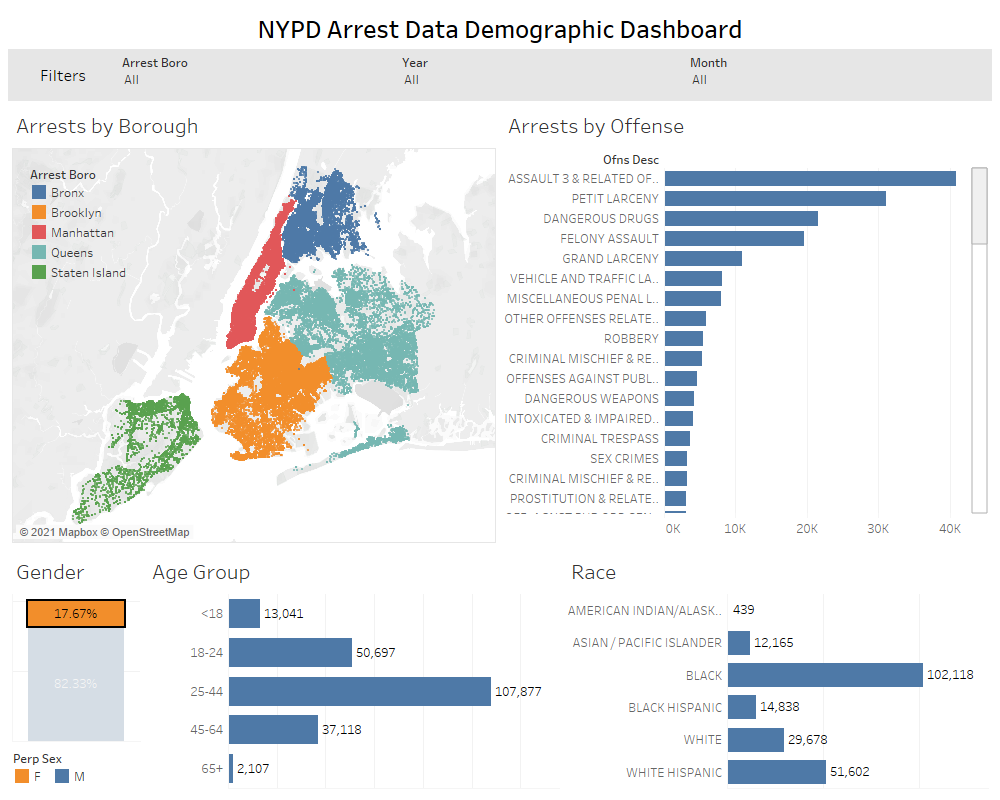

What the dashboard file says about the page in this screenshot:
{"tool":"tableau","page":{"name":"NYPD Arrest Data Demographic Dashboard","canvas":[1000,800],"ordinal":0},"visuals":[{"type":"title","box":[8,8,984,41]},{"type":"text","box":[8,49,110,52]},{"type":"filter","title":"Arrests by Offense Type","param":"[federated.0u0g2jr0y9b0lh1fggo9v036ljvq].[none:ARREST_BORO:nk]","box":[118,49,280,52]},{"type":"filter","title":"Arrests by Offense Type","param":"[federated.0u0g2jr0y9b0lh1fggo9v036ljvq].[yr:ARREST_DATE:ok]","box":[398,49,288,52]},{"type":"filter","title":"Arrests by Offense Type","param":"[federated.0u0g2jr0y9b0lh1fggo9v036ljvq].[mn:ARREST_DATE:ok]","box":[686,49,306,52]},{"type":"worksheet","title":"Arrests by Borough","mark":"Automatic","rows":["Latitude"],"cols":["Longitude"],"box":[8,101,492,445.8]},{"type":"worksheet","title":"Arrests by Offense Type","mark":"Automatic","rows":["OFNS_DESC"],"cols":["ARREST_DATE"],"box":[500,101,492,445.8]},{"type":"legend","title":"Arrests by Borough","param":"[federated.0u0g2jr0y9b0lh1fggo9v036ljvq].[none:ARREST_BORO:nk]","box":[29,164,140,118]},{"type":"worksheet","title":"Gender","mark":"Automatic","rows":["ARREST_DATE"],"box":[8,546.8,136,197.5]},{"type":"worksheet","title":"Age Group","mark":"Automatic","rows":["AGE_GROUP"],"cols":["ARREST_DATE"],"box":[144,546.8,419,245.2]},{"type":"worksheet","title":"Race","mark":"Automatic","rows":["PERP_RACE"],"cols":["ARREST_DATE"],"box":[563,546.8,429,245.2]},{"type":"legend","title":"Gender","param":"[federated.0u0g2jr0y9b0lh1fggo9v036ljvq].[none:PERP_SEX:nk]","box":[8,744.4,136,47.6]}]}

Visuals, with their boxes in screenshot pixels (x1, y1, x2, y2), scaled from the page's 1000x800 canvas onto the 1000x800 screenshot:
title: box(8, 8, 992, 49)
text: box(8, 49, 118, 101)
"Arrests by Offense Type" filter: box(118, 49, 398, 101)
"Arrests by Offense Type" filter: box(398, 49, 686, 101)
"Arrests by Offense Type" filter: box(686, 49, 992, 101)
"Arrests by Borough" worksheet: box(8, 101, 500, 547)
"Arrests by Offense Type" worksheet: box(500, 101, 992, 547)
"Arrests by Borough" legend: box(29, 164, 169, 282)
"Gender" worksheet: box(8, 547, 144, 744)
"Age Group" worksheet: box(144, 547, 563, 792)
"Race" worksheet: box(563, 547, 992, 792)
"Gender" legend: box(8, 744, 144, 792)
